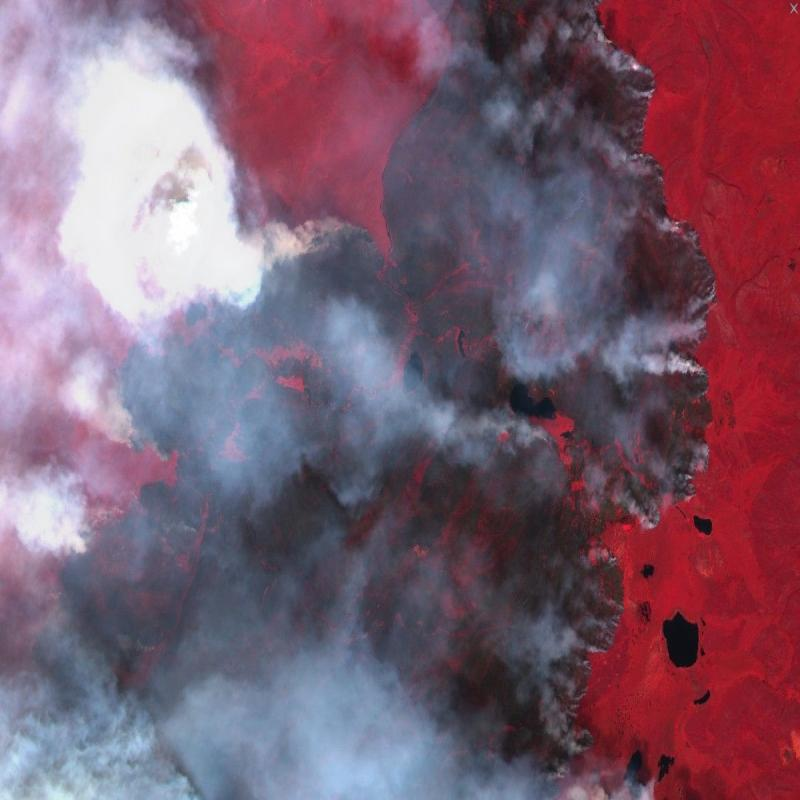fire: (546, 559, 629, 769), (576, 5, 665, 198), (625, 414, 723, 557), (655, 209, 730, 366), (249, 208, 366, 270), (104, 405, 185, 478), (50, 502, 120, 571)
